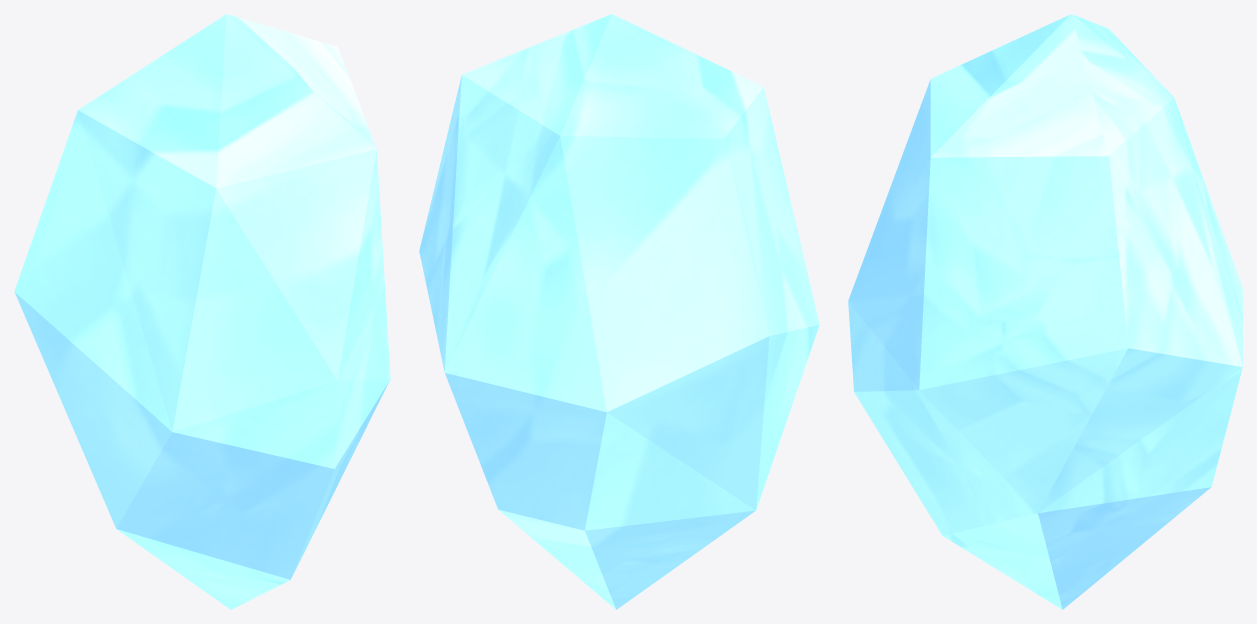
File: ice-rock.glb
The picture shows the model from 3 angles, left to right: view 1: azimuth 30°, elevation 25°; view 2: azimuth 150°, elevation 25°; view 3: azimuth 270°, elevation 25°; orthographic projection.
Parts seen in each view (by area): view 1: cristal_0; view 2: cristal_0; view 3: cristal_0.
Part boxes in pixels (left/top/right/bottom): cristal_0: left=14, top=14, right=390, bottom=609; cristal_0: left=419, top=14, right=819, bottom=609; cristal_0: left=848, top=14, right=1242, bottom=609.
Size of the model in its own units: 2.27 by 3.71 by 2.23.
Materials: 1 (1 with a texture image).
